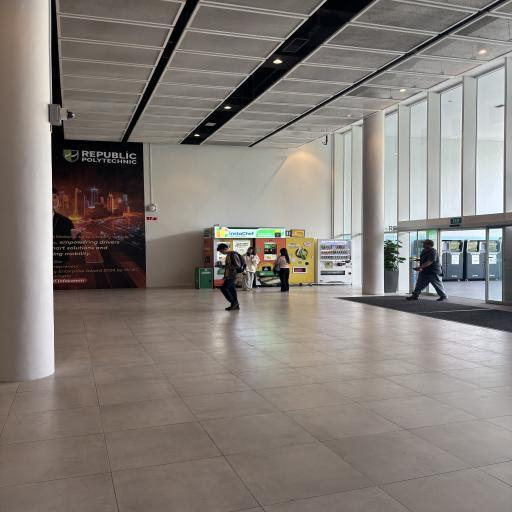person_left: (403, 229, 455, 302), (203, 232, 246, 314)
